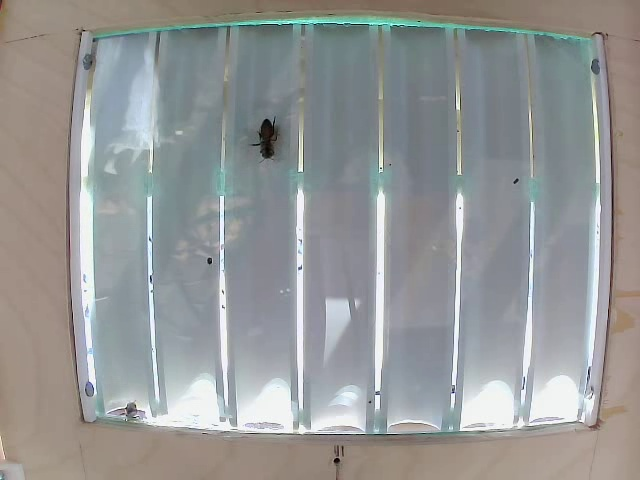bee: (246, 116, 296, 176)
